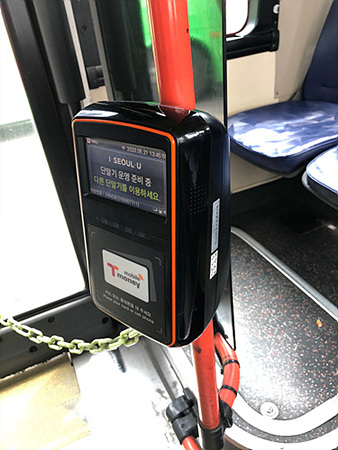terminal: (75, 100, 224, 336)
